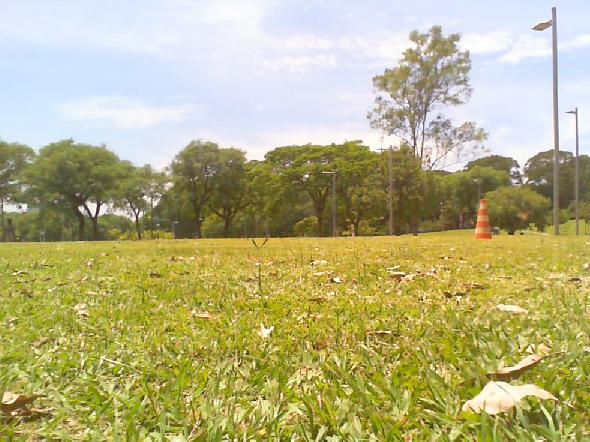0 cone: (469, 197, 499, 242)
